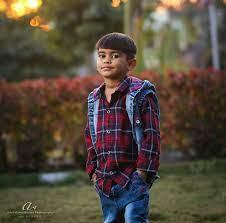Human: (79, 20, 163, 223)
